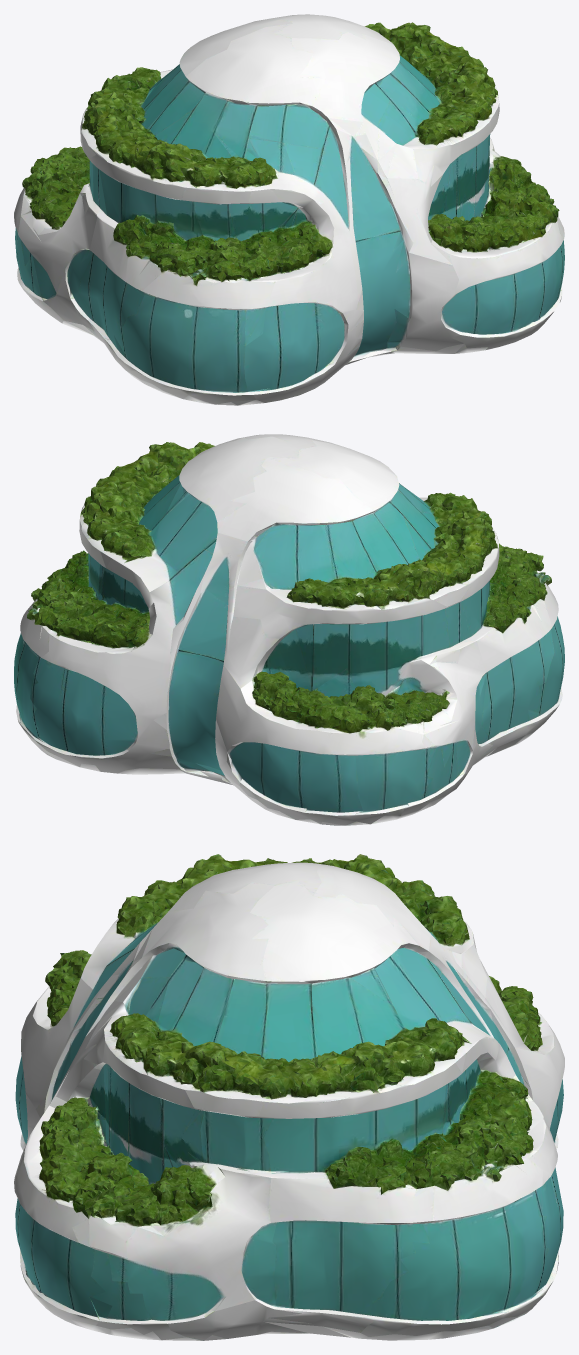
The model's file is building.glb.
3 renders of one model, top to bottom at view 1: azimuth 30°, elevation 25°; view 2: azimuth 150°, elevation 25°; view 3: azimuth 270°, elevation 25°, orthographic. The views are drawn at different scales.
Size of the model in its own units: 1.9 by 1.15 by 1.71.
1 material, 1 textured.
